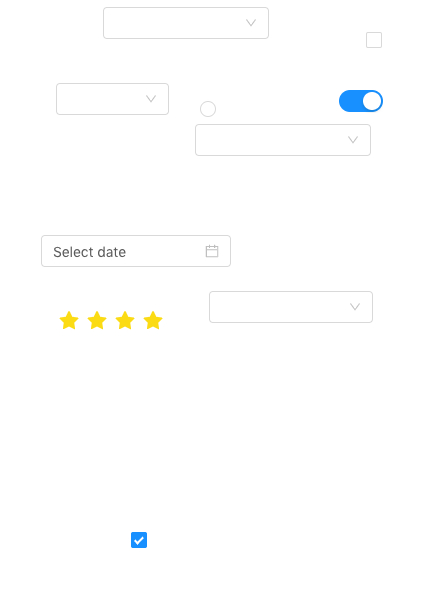Checkbox: (366, 29, 382, 50), (131, 529, 147, 550)
DatePicker: (41, 235, 231, 267)
Radio: (200, 98, 216, 118)
Rate: (59, 304, 179, 336)
Select: (195, 124, 371, 156), (103, 7, 269, 39), (209, 291, 373, 323), (56, 83, 169, 115)
Switch: (339, 89, 383, 113)
